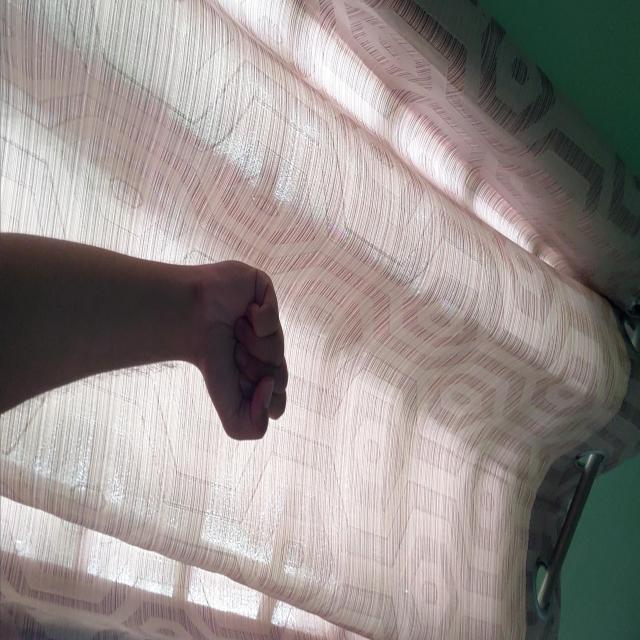S: (259, 351, 443, 443)
